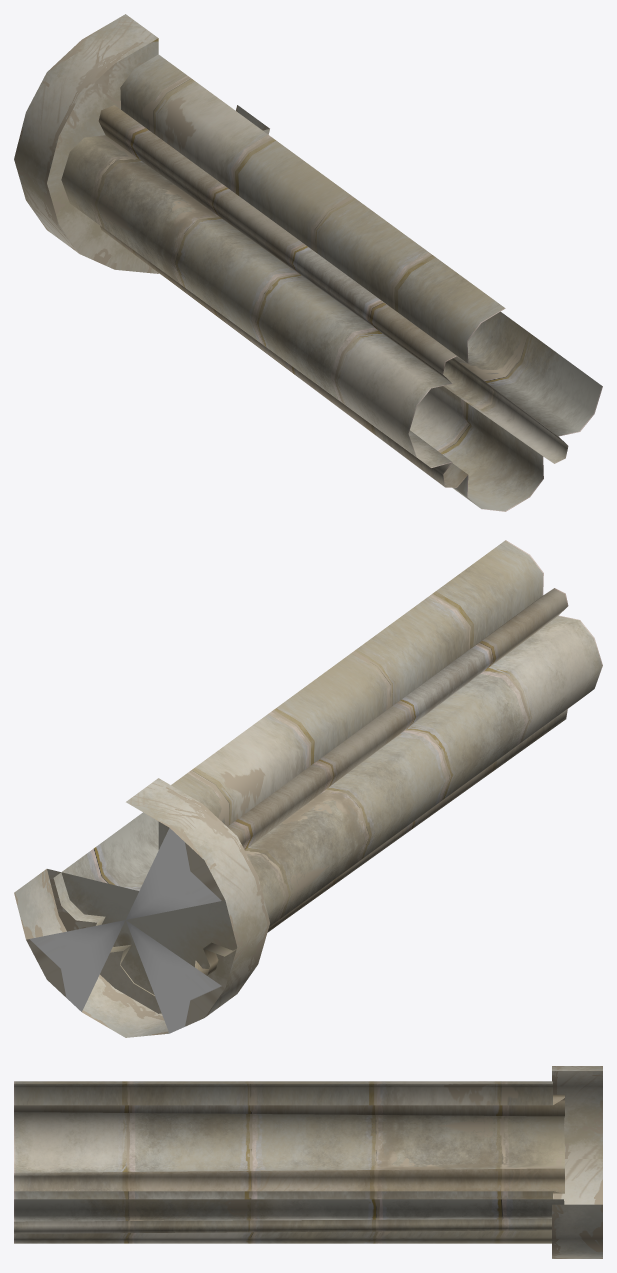
Rendered from Cath_ThreeQuartColumn_m.fbx.
3 views of the same model, one above another, from view 1: azimuth 30°, elevation 25°; view 2: azimuth 150°, elevation 25°; view 3: azimuth 270°, elevation 25° (orthographic). The views are drawn at different scales.
Parts seen in each view (by area): view 1: Cath_ThreeQuartColumn_m; view 2: Cath_ThreeQuartColumn_m; view 3: Cath_ThreeQuartColumn_m.
Boxes of the visible parts, x1,y1,x2,y2 form: Cath_ThreeQuartColumn_m: [14, 14, 602, 511]; Cath_ThreeQuartColumn_m: [14, 540, 602, 1037]; Cath_ThreeQuartColumn_m: [14, 1066, 602, 1258].
Size of the model in its own units: 138 by 140 by 408.
